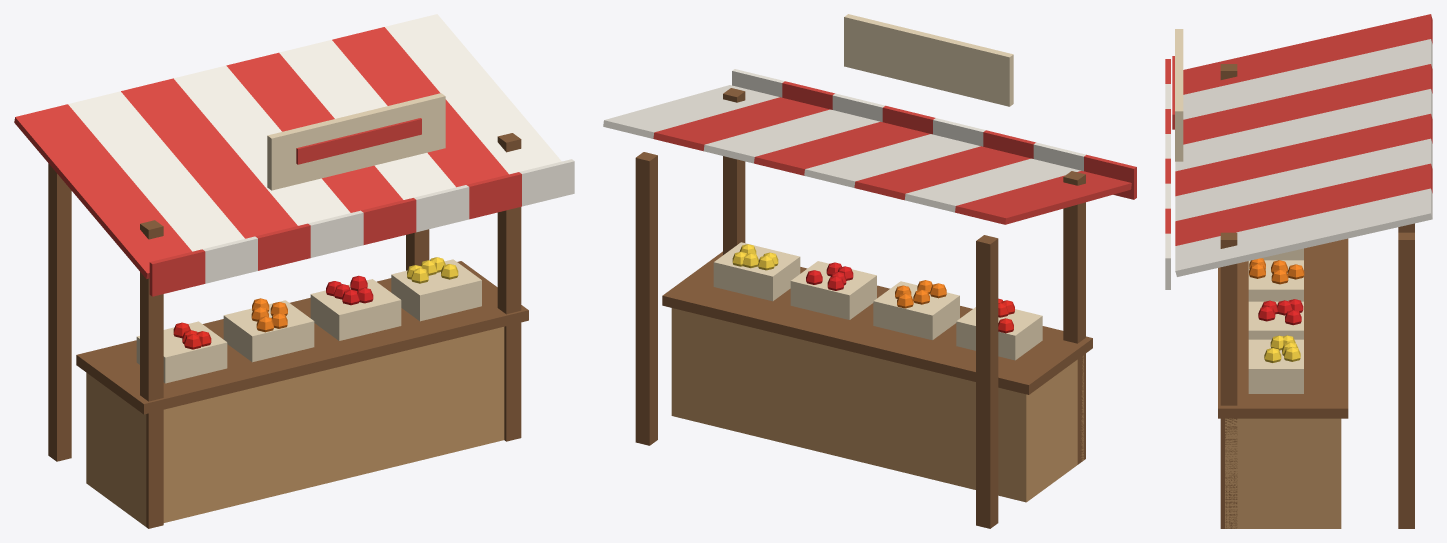
File: shop.obj
3 renders of one model, left to right at view 1: azimuth 30°, elevation 25°; view 2: azimuth 150°, elevation 25°; view 3: azimuth 270°, elevation 25°, orthographic. The views are drawn at different scales.
Parts seen in each view (by area): view 1: counter, awning; view 2: counter, awning; view 3: awning, counter.
Part boxes in pixels (left/top/right/bottom): counter: left=48, top=93, right=528, bottom=528; awning: left=14, top=14, right=574, bottom=296; counter: left=635, top=14, right=1092, bottom=528; awning: left=603, top=69, right=1136, bottom=224; awning: left=1165, top=14, right=1432, bottom=289; counter: left=1172, top=29, right=1414, bottom=528.
Bounding box in the file's own units: 3.4 × 2.95 × 1.93.
